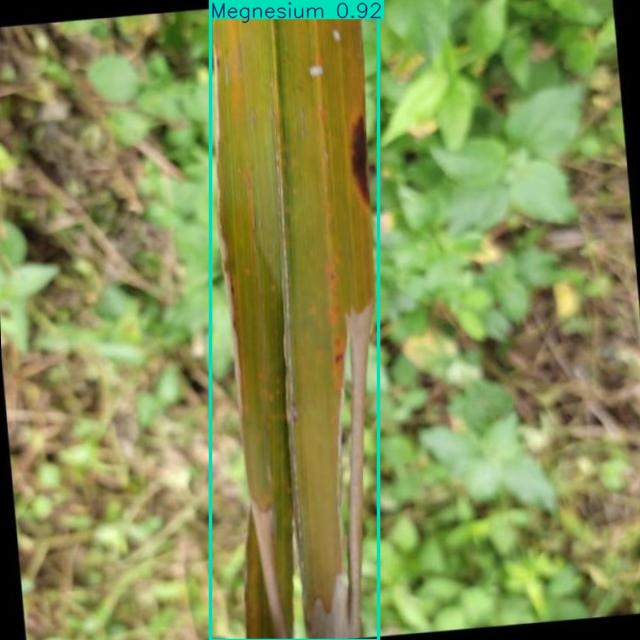Megnesium: (210, 0, 378, 640)
